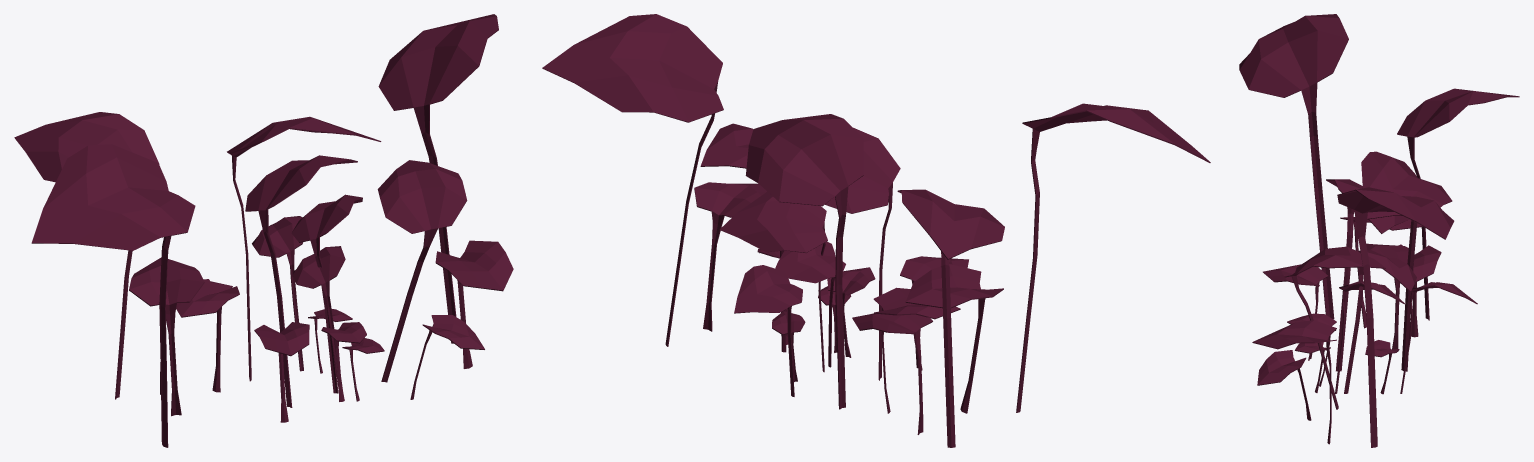
The model's file is st3_plant5.fbx.
The picture shows the model from 3 angles, left to right: view 1: azimuth 30°, elevation 25°; view 2: azimuth 150°, elevation 25°; view 3: azimuth 270°, elevation 25°; orthographic projection. The views are drawn at different scales.
Parts seen in each view (by area): view 1: stage3_map_object_leaves_3_medium_; view 2: stage3_map_object_leaves_3_medium_; view 3: stage3_map_object_leaves_3_medium_.
Boxes of the visible parts, <box> form: stage3_map_object_leaves_3_medium_: <box>14,14,513,447</box>; stage3_map_object_leaves_3_medium_: <box>542,14,1210,447</box>; stage3_map_object_leaves_3_medium_: <box>1239,14,1519,447</box>.
Bounding box in the file's own units: 1800 × 979 × 909.
